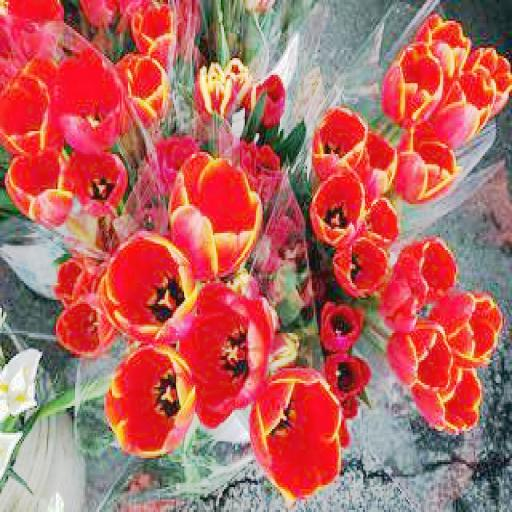tulip: (173, 292, 275, 420), (256, 366, 346, 502), (170, 156, 260, 279), (102, 350, 197, 460), (102, 231, 198, 337), (379, 44, 443, 125), (116, 52, 174, 127)
